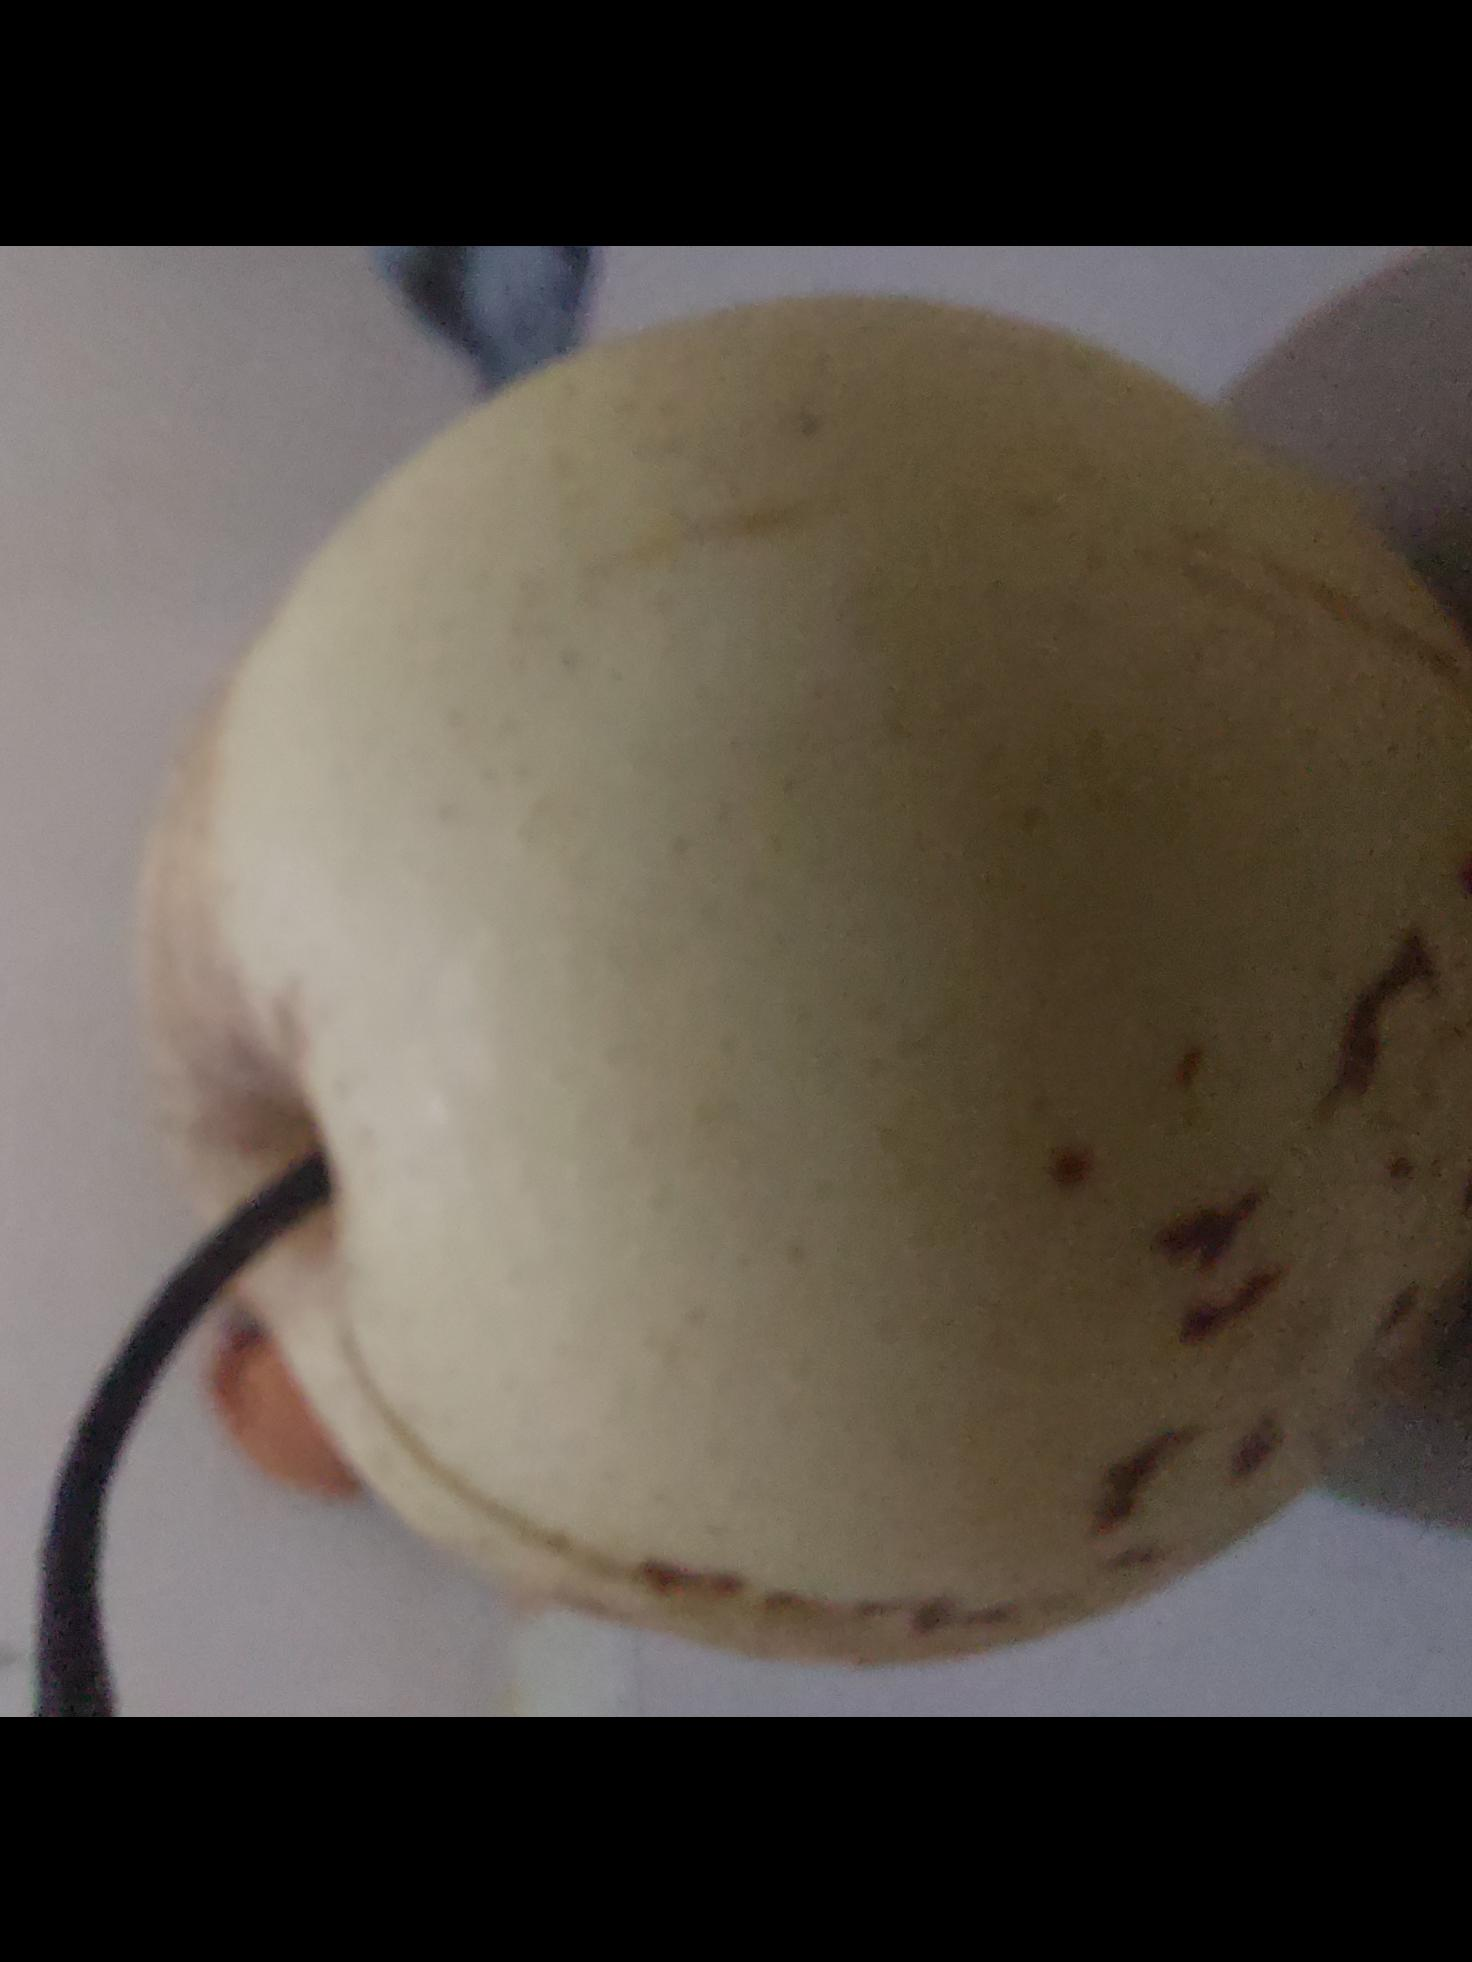Bad Pear: (182, 278, 1472, 1654)
